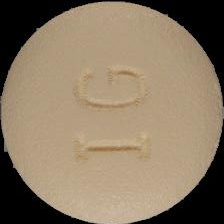50268-752: (0, 0, 224, 224)
